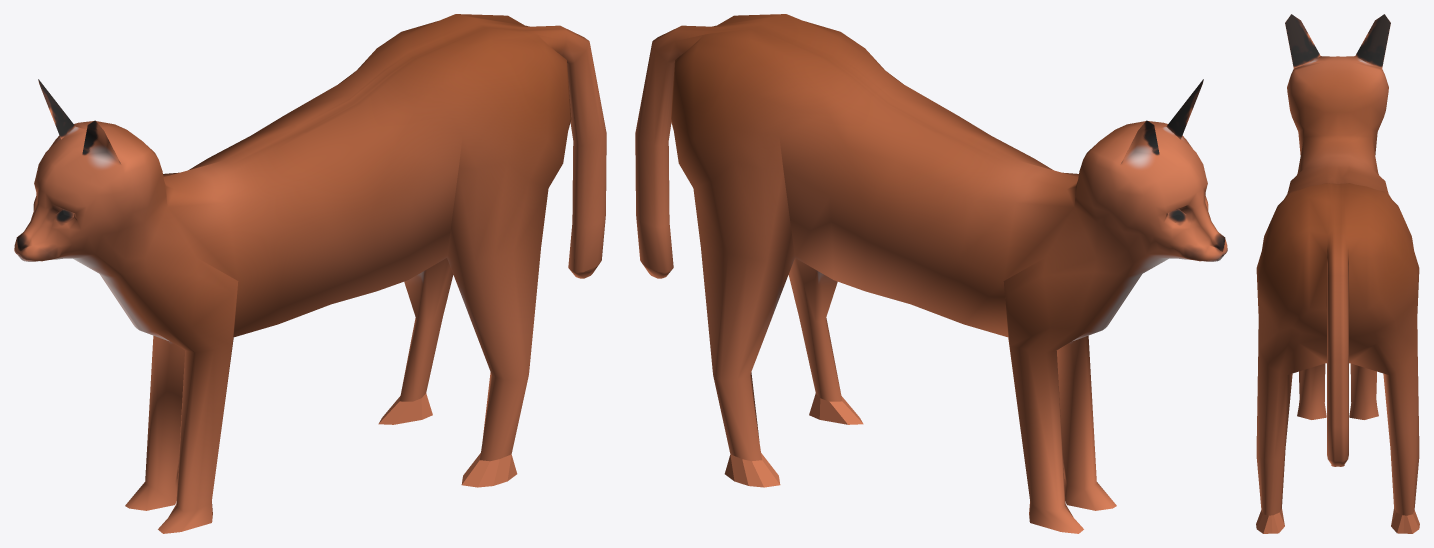
File: caracal.glb
3 renders of one model, left to right at view 1: azimuth 30°, elevation 25°; view 2: azimuth 150°, elevation 25°; view 3: azimuth 270°, elevation 25°, orthographic. The views are drawn at different scales.
Visible parts, largest first — view 1: Plane001; view 2: Plane001; view 3: Plane001.
Boxes of the visible parts, x1=… form: Plane001: x1=14, y1=14, x2=606, y2=533; Plane001: x1=635, y1=14, x2=1227, y2=533; Plane001: x1=1256, y1=14, x2=1419, y2=533.
Bounding box in the file's own units: 2528 × 1821 × 751.
1 material, 1 textured.
